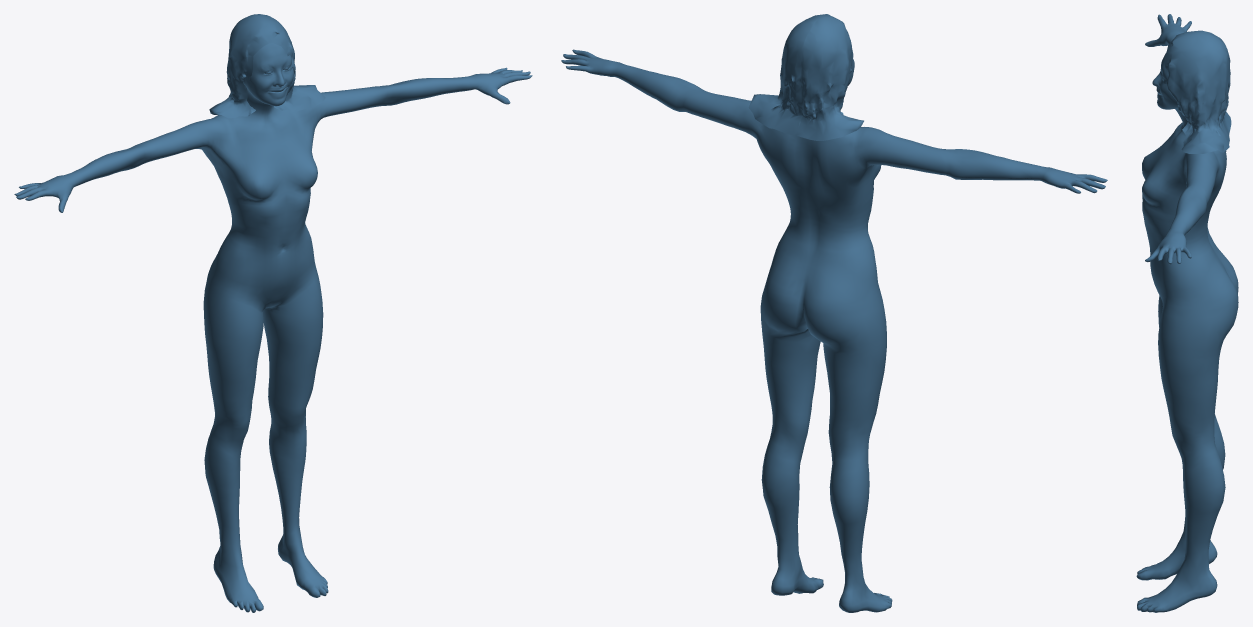
Rendered from woman_powerpointMetall.glb.
The picture shows the model from 3 angles, left to right: view 1: azimuth 30°, elevation 25°; view 2: azimuth 150°, elevation 25°; view 3: azimuth 270°, elevation 25°; orthographic projection. The views are drawn at different scales.
Parts seen in each view (by area): view 1: mesh.001, haircut_generated; view 2: mesh.001, haircut_generated; view 3: mesh.001, haircut_generated.
Part boxes in pixels (x1,y1,x2,y2): mesh.001: (14,43,532,612); haircut_generated: (209,14,325,118); mesh.001: (561,49,1107,612); haircut_generated: (748,14,863,140); mesh.001: (1136,14,1238,612); haircut_generated: (1163,30,1231,153).
Size of the model in its own units: 1.73 by 1.82 by 0.2997.
